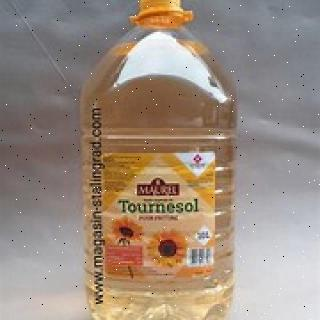Plastic-bottle: (75, 1, 241, 320)
